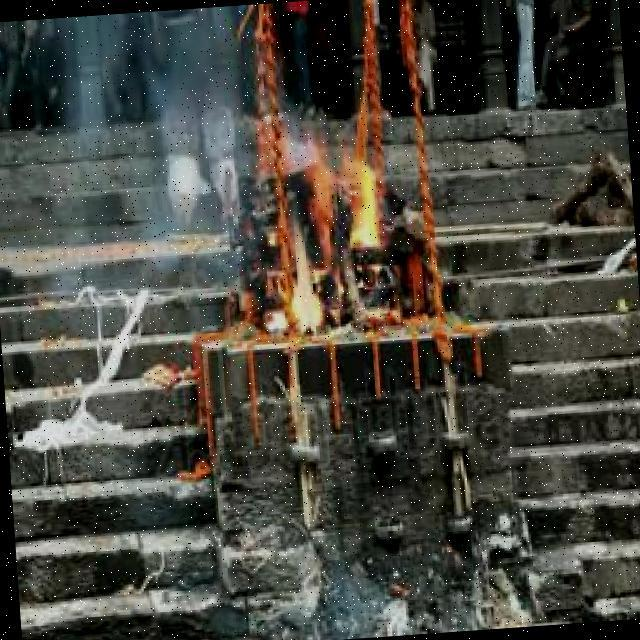Fire: (281, 123, 398, 335)
